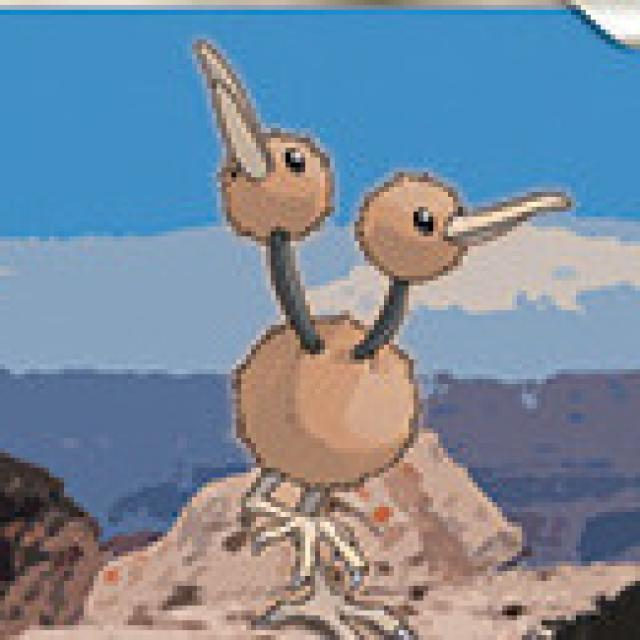Doduo: (194, 101, 477, 595)
